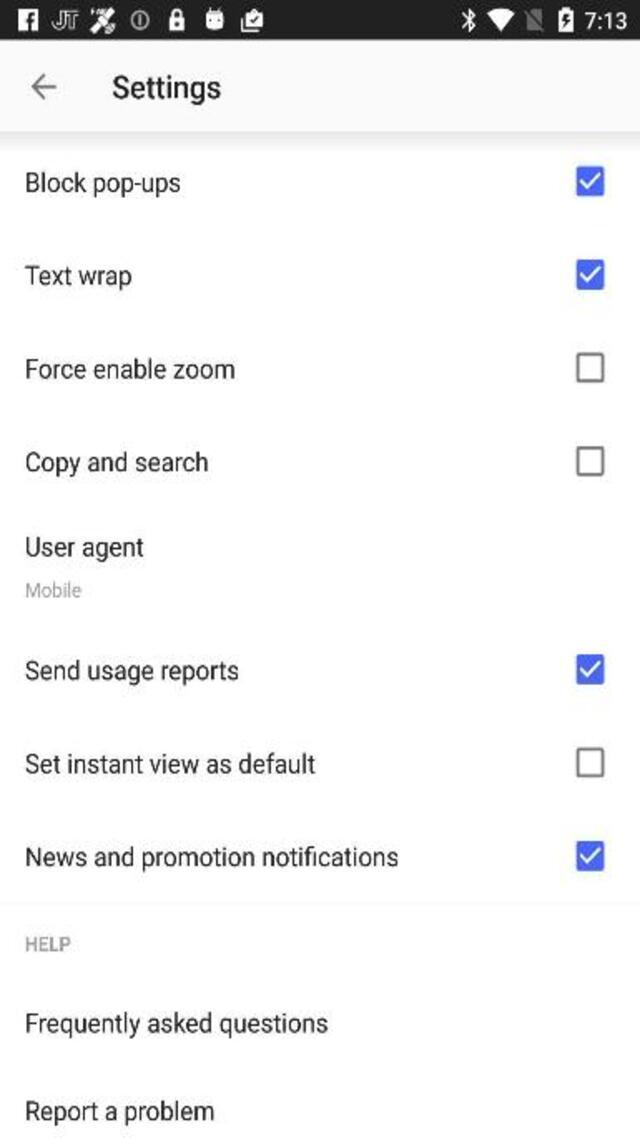CheckedTextView: (27, 165, 605, 198), (25, 260, 603, 292), (27, 446, 605, 478), (25, 654, 603, 686), (27, 840, 605, 872), (27, 353, 605, 383), (25, 748, 603, 778)
Icon: (29, 73, 56, 101)
Text: (27, 846, 399, 872), (26, 1010, 327, 1038), (25, 752, 314, 774), (25, 658, 238, 686), (26, 450, 207, 478), (25, 1100, 214, 1126), (25, 358, 234, 378), (26, 172, 180, 198), (112, 74, 220, 106), (26, 537, 144, 562), (25, 265, 131, 290), (26, 580, 80, 596), (26, 937, 70, 951)
